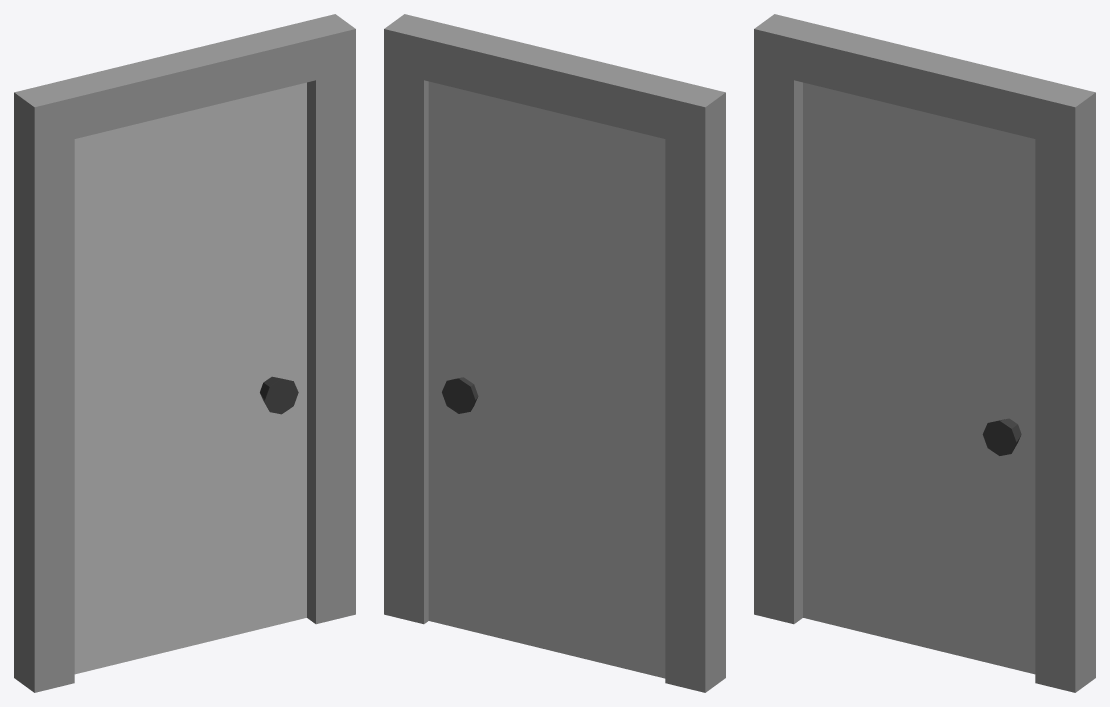
Rendered from door.fbx.
3 renders of one model, left to right at view 1: azimuth 30°, elevation 25°; view 2: azimuth 150°, elevation 25°; view 3: azimuth 330°, elevation 25°, orthographic.
Parts seen in each view (by area): view 1: door, frame; view 2: door, frame; view 3: door, frame.
Part boxes in pixels (<box>): door: <box>74,82,306,674</box>; frame: <box>14,14,355,692</box>; door: <box>428,81,665,678</box>; frame: <box>384,14,725,692</box>; door: <box>803,82,1035,674</box>; frame: <box>754,14,1095,692</box>.
Size of the model in its own units: 136 by 237 by 15.91.
